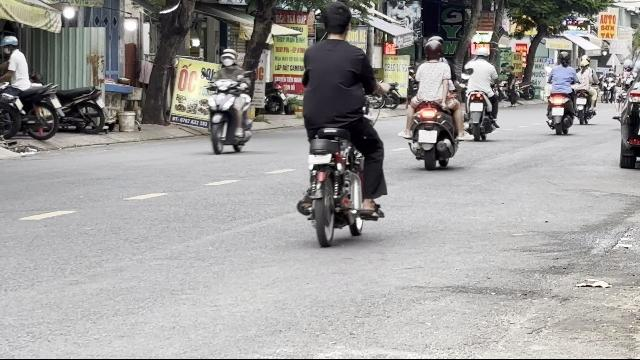helmet: (422, 40, 443, 61), (218, 48, 238, 68), (1, 35, 20, 55), (579, 57, 589, 67)
licenseplate: (418, 130, 436, 142)
motorcyclist: (293, 1, 391, 245), (400, 36, 462, 170), (0, 33, 64, 151), (204, 48, 256, 154)
nohelmet: (318, 0, 354, 40)
